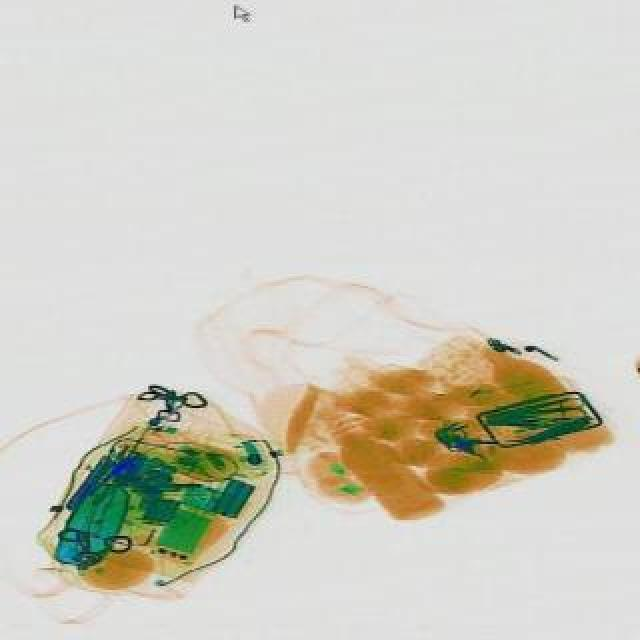pliers: (516, 394, 586, 426)
